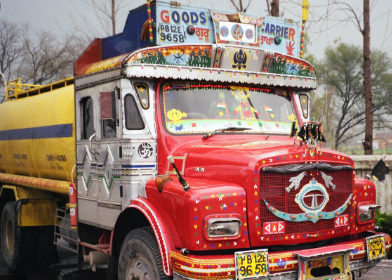truck: (1, 1, 392, 280)
